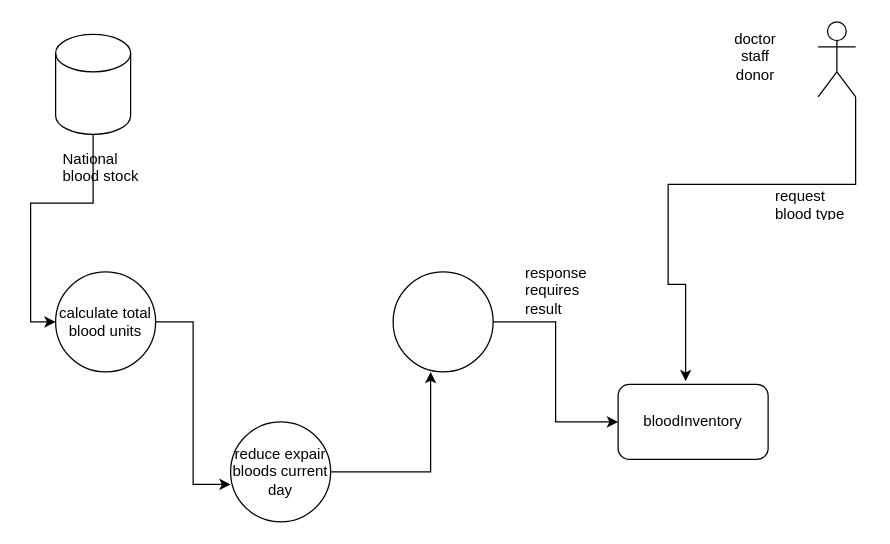
Some shapes in this 890 by 544 pixel diagram are drawn without their labels. The centre of each missing label's shape, as x and y in pixels:
Actor: point 836,59
filter blood logic: point 442,321
